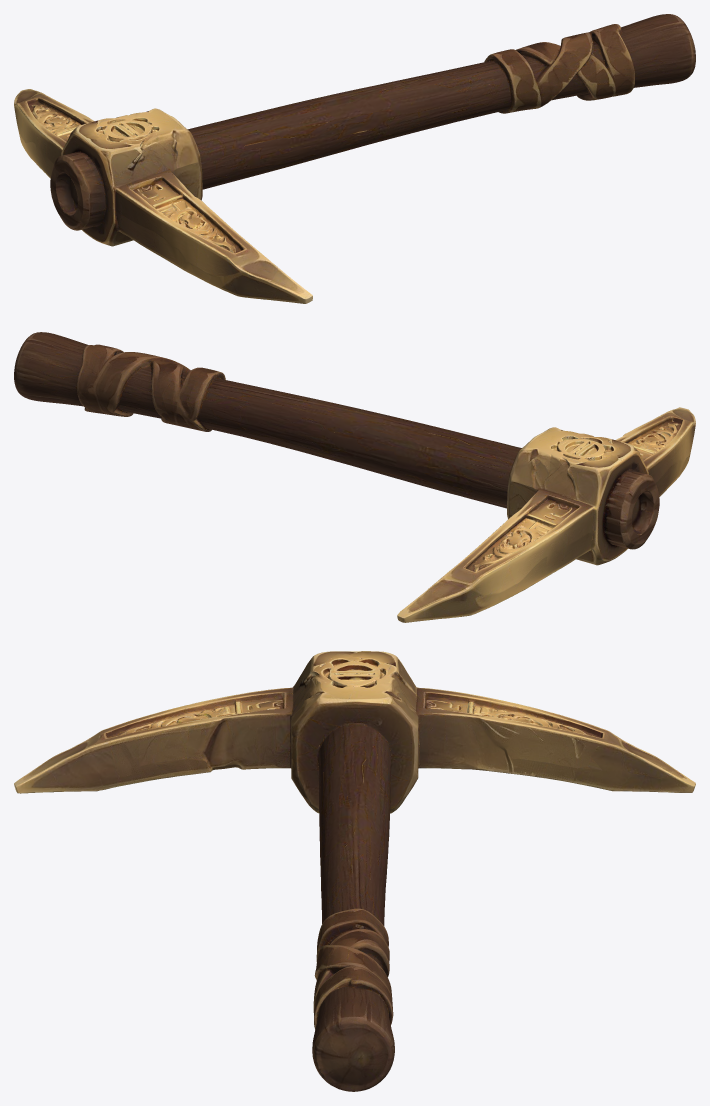
File: et_pickaxe.glb
3 renders of one model, top to bottom at view 1: azimuth 30°, elevation 25°; view 2: azimuth 150°, elevation 25°; view 3: azimuth 270°, elevation 25°, orthographic. The views are drawn at different scales.
Bounding box in the file's own units: 1.9 × 0.2881 × 1.51.
Materials: 1 (1 with a texture image).
